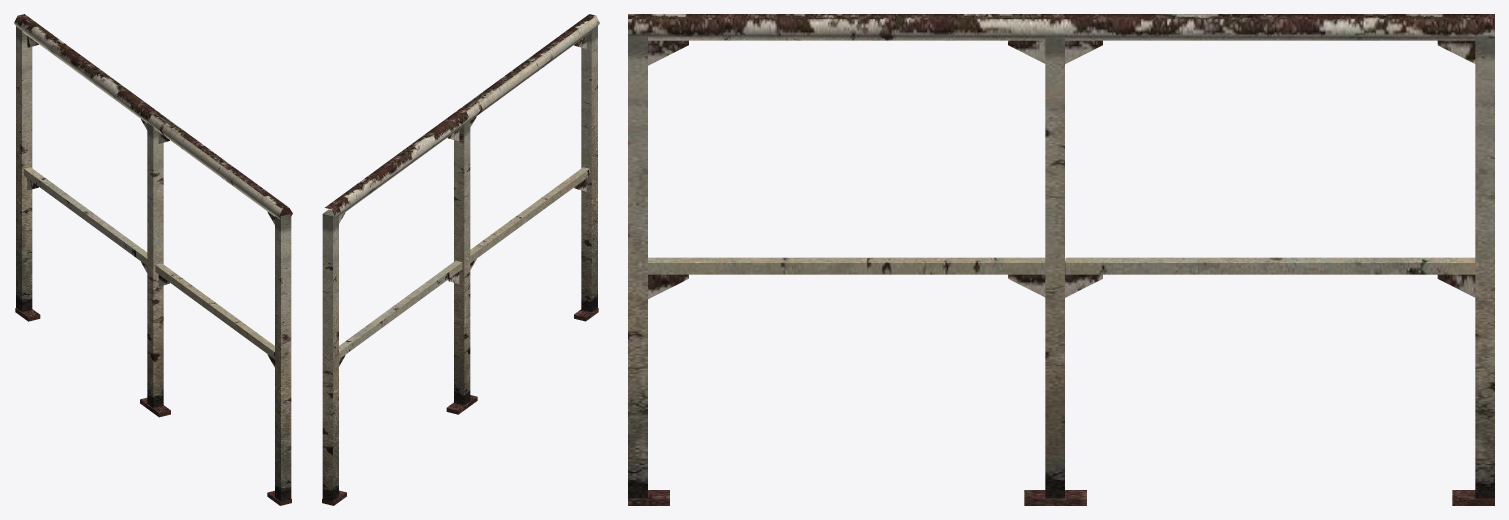
File: handrail04_medium.glb
3 views of the same model, side by side, from view 1: azimuth 30°, elevation 25°; view 2: azimuth 150°, elevation 25°; view 3: azimuth 270°, elevation 25° (orthographic). The views are drawn at different scales.
Parts seen in each view (by area): view 1: 0_HandrailMetal001a; view 2: 0_HandrailMetal001a; view 3: 0_HandrailMetal001a.
Boxes of the visible parts, left/top/right/bottom form: 0_HandrailMetal001a: left=14, top=14, right=292, bottom=505; 0_HandrailMetal001a: left=322, top=14, right=599, bottom=505; 0_HandrailMetal001a: left=628, top=14, right=1494, bottom=505.
Bounding box in the file's own units: 0.0508 × 1.02 × 1.65.
1 material, 1 textured.
